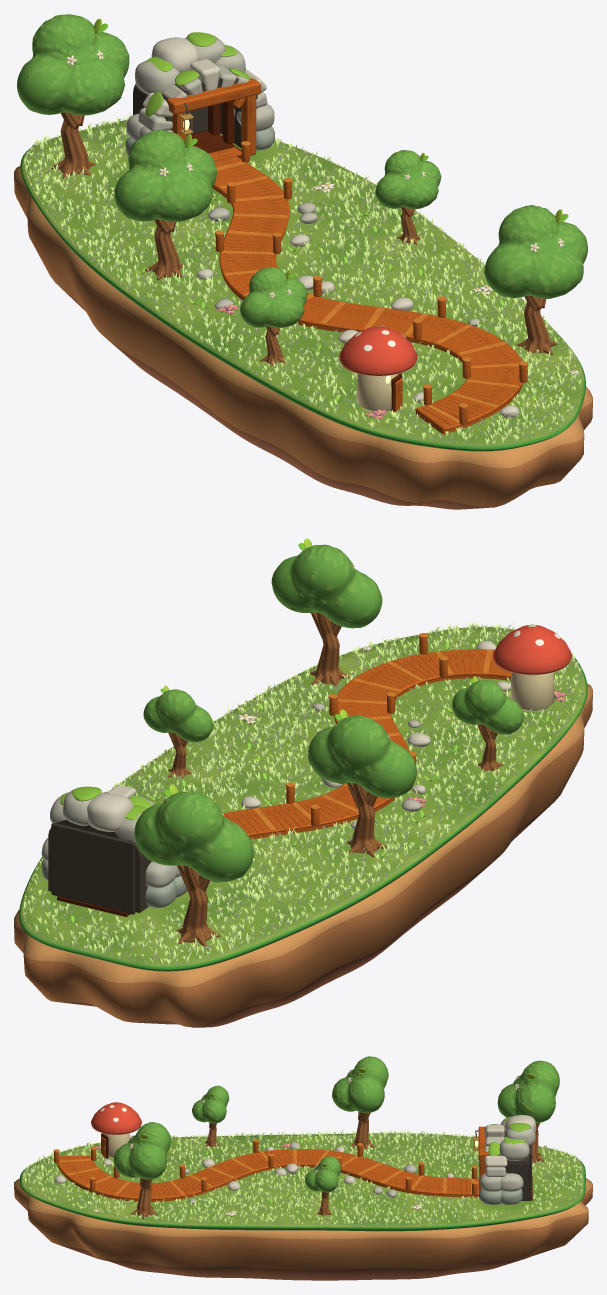
File: airy_island.glb
The picture shows the model from 3 angles, top to bottom: view 1: azimuth 30°, elevation 25°; view 2: azimuth 150°, elevation 25°; view 3: azimuth 270°, elevation 25°; orthographic projection. The views are drawn at different scales.
Parts seen in each view (by area): view 1: Island_Grass_Cap, Island_Warm_Earth_Cut, Reference_Grass_Carpet, Northwest_Crown_Sculpt, Southeast_Crown_Sculpt, West_Crown_Sculpt, Continuous_Timber_Underdeck, Southwest_Crown_Sculpt, East_Crown_Sculpt, Cottage_Red_Domed_Cap, Reference_Grass_Edge, Portal_Header (+10 smaller); view 2: Island_Grass_Cap, Island_Warm_Earth_Cut, Reference_Grass_Carpet, Northwest_Crown_Sculpt, Southeast_Crown_Sculpt, Mine_Distant_Dark_End, West_Crown_Sculpt, Continuous_Timber_Underdeck, Cottage_Red_Domed_Cap, Southwest_Crown_Sculpt, East_Crown_Sculpt, Reference_Grass_Edge (+10 smaller); view 3: Island_Grass_Cap, Island_Warm_Earth_Cut, Reference_Grass_Carpet, Continuous_Timber_Underdeck, Northwest_Crown_Sculpt, Southeast_Crown_Sculpt, West_Crown_Sculpt, Cottage_Red_Domed_Cap, Southwest_Crown_Sculpt, Rounded_Edge_Rail_-1, East_Crown_Sculpt, Reference_Grass_Edge (+8 smaller).
Boxes of the visible parts, x1=… form: Island_Grass_Cap: x1=20, y1=120, x2=585, y2=451; Island_Warm_Earth_Cut: x1=14, y1=166, x2=592, y2=509; Reference_Grass_Carpet: x1=24, y1=112, x2=581, y2=445; Northwest_Crown_Sculpt: x1=17, y1=14, x2=129, y2=115; Southeast_Crown_Sculpt: x1=484, y1=205, x2=587, y2=298; West_Crown_Sculpt: x1=114, y1=130, x2=216, y2=221; Continuous_Timber_Underdeck: x1=212, y1=175, x2=523, y2=434; Southwest_Crown_Sculpt: x1=240, y1=267, x2=307, y2=327; East_Crown_Sculpt: x1=375, y1=150, x2=441, y2=208; Cottage_Red_Domed_Cap: x1=339, y1=326, x2=417, y2=375; Reference_Grass_Edge: x1=25, y1=117, x2=581, y2=445; Portal_Header: x1=167, y1=78, x2=260, y2=114; Island_Grass_Cap: x1=19, y1=627, x2=587, y2=971; Island_Warm_Earth_Cut: x1=14, y1=683, x2=592, y2=1027; Reference_Grass_Carpet: x1=23, y1=621, x2=583, y2=965; Northwest_Crown_Sculpt: x1=134, y1=791, x2=253, y2=882; Southeast_Crown_Sculpt: x1=271, y1=544, x2=382, y2=628; Mine_Distant_Dark_End: x1=51, y1=823, x2=135, y2=914; West_Crown_Sculpt: x1=308, y1=715, x2=416, y2=798; Continuous_Timber_Underdeck: x1=224, y1=650, x2=510, y2=839; Cottage_Red_Domed_Cap: x1=493, y1=624, x2=571, y2=674; Southwest_Crown_Sculpt: x1=452, y1=680, x2=523, y2=734; East_Crown_Sculpt: x1=143, y1=689, x2=212, y2=742; Reference_Grass_Edge: x1=23, y1=623, x2=583, y2=965; Island_Grass_Cap: x1=19, y1=1133, x2=585, y2=1231; Island_Warm_Earth_Cut: x1=14, y1=1178, x2=592, y2=1280; Reference_Grass_Carpet: x1=23, y1=1129, x2=583, y2=1225; Continuous_Timber_Underdeck: x1=57, y1=1149, x2=478, y2=1201; Northwest_Crown_Sculpt: x1=497, y1=1060, x2=559, y2=1123; Southeast_Crown_Sculpt: x1=113, y1=1122, x2=170, y2=1179; West_Crown_Sculpt: x1=332, y1=1056, x2=388, y2=1113; Cottage_Red_Domed_Cap: x1=91, y1=1102, x2=141, y2=1134; Southwest_Crown_Sculpt: x1=192, y1=1085, x2=229, y2=1123; Rounded_Edge_Rail_-1: x1=57, y1=1163, x2=478, y2=1199; East_Crown_Sculpt: x1=305, y1=1156, x2=340, y2=1192; Reference_Grass_Edge: x1=23, y1=1131, x2=582, y2=1226.
Bounding box in the file's own units: 8.18 × 6.24 × 20.59.
Materials: 29 (5 with a texture image).
